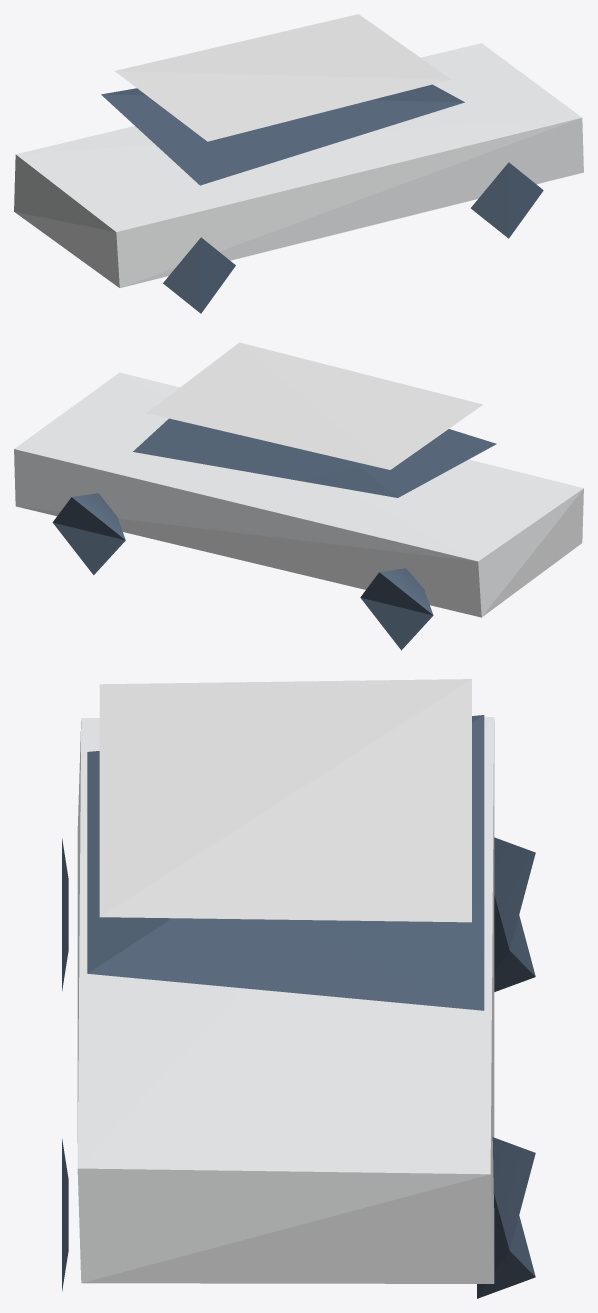
Rendered from car_lod1.glb.
3 views of the same model, one above another, from view 1: azimuth 30°, elevation 25°; view 2: azimuth 150°, elevation 25°; view 3: azimuth 270°, elevation 25° (orthographic). The views are drawn at different scales.
Parts seen in each view (by area): view 1: car_lod1; view 2: car_lod1; view 3: car_lod1.
Part boxes in pixels (box(x1,y1,x2,y2)): car_lod1: box(14, 14, 583, 313); car_lod1: box(14, 342, 583, 650); car_lod1: box(62, 679, 535, 1298).
Bounding box in the file's own units: 4.41 × 1.48 × 1.93.
